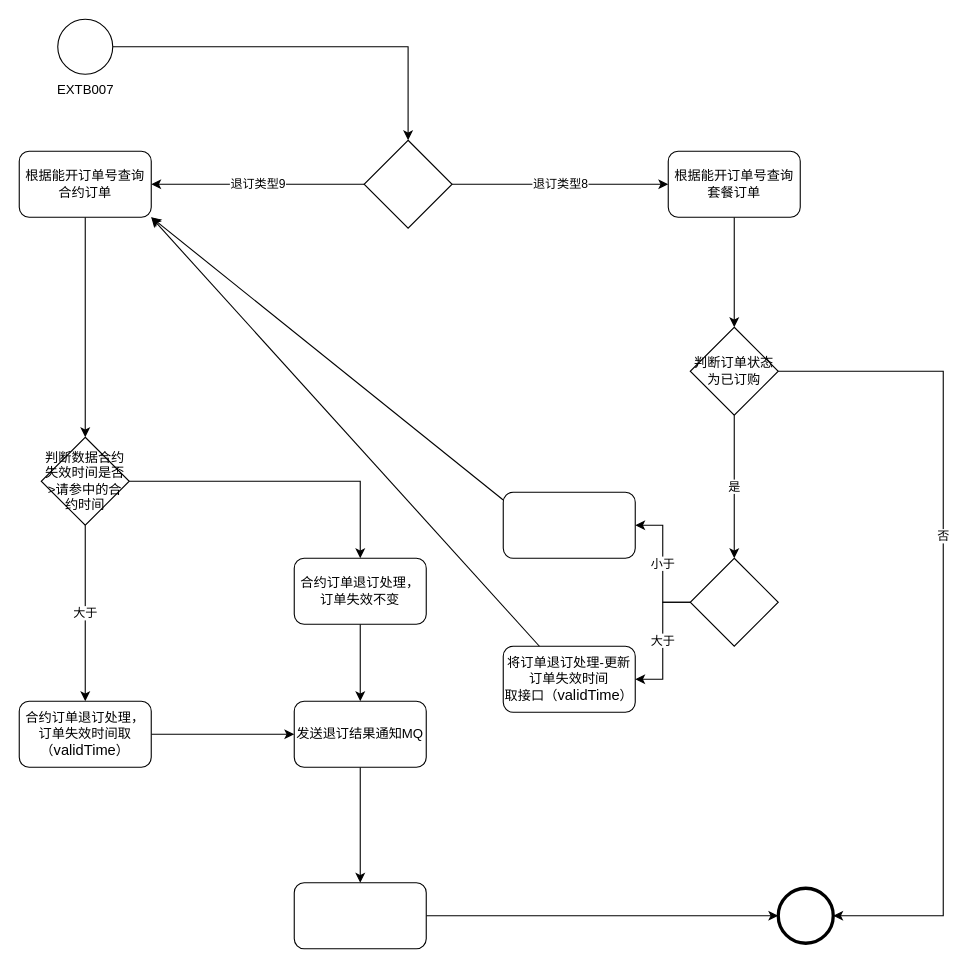
The diagram is 971 pixels wide and 968 high, and some of its shapes have lost their labels. Each missing label, with the box of its shape:
判断已订购订单的失效时间是否小于新套餐的订购时间: (689, 557, 778, 646)
发送订单轨迹MQ(套餐+合约): (293, 882, 426, 949)
将订单退订处理-不更新订单失效时间: (502, 491, 635, 558)
退订类型判断: (363, 139, 452, 228)
